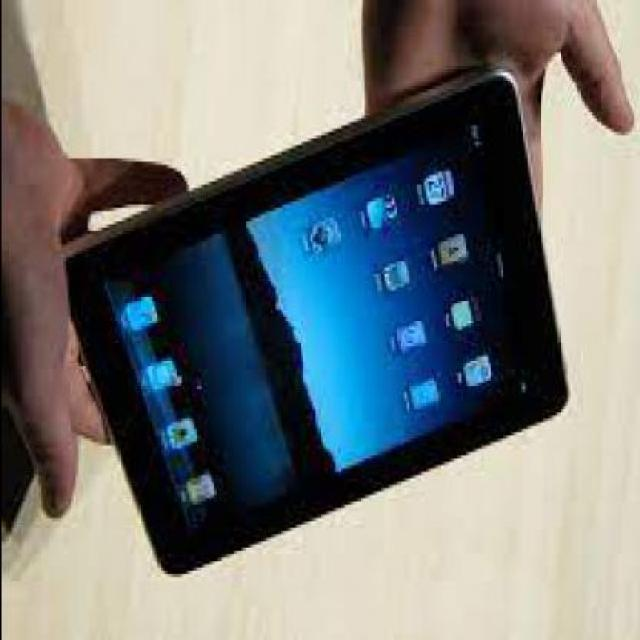tablet: (50, 76, 562, 604)
